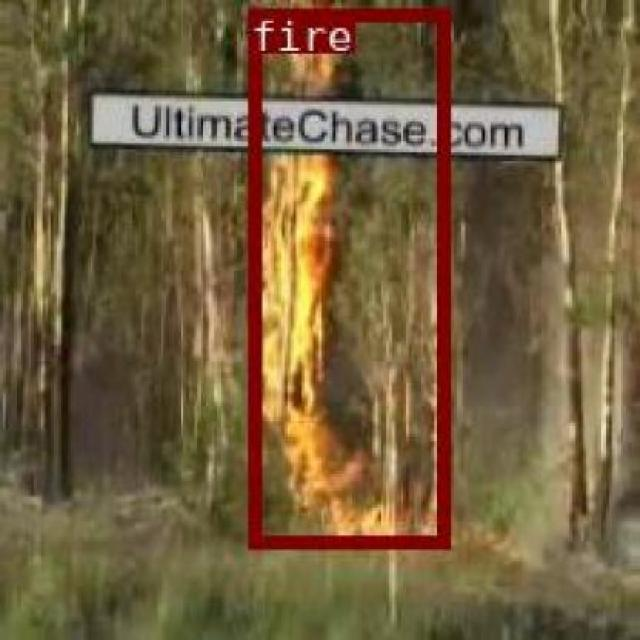Fire: (248, 6, 447, 546)
